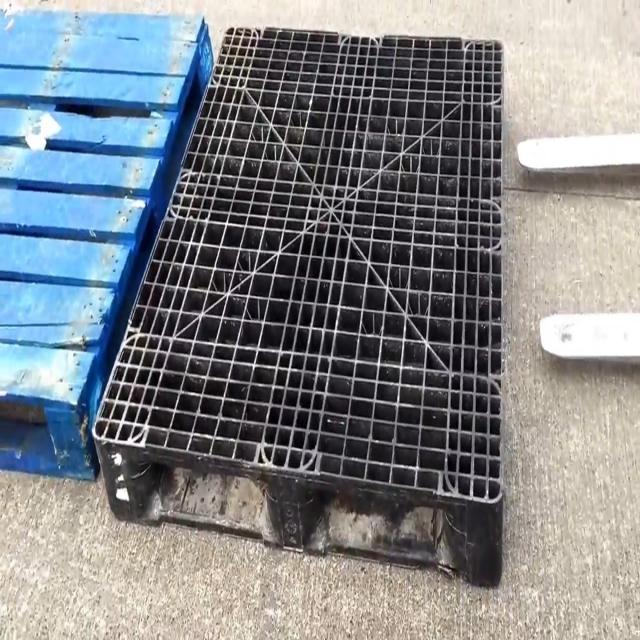Palette: (94, 26, 511, 598), (0, 0, 220, 508)
